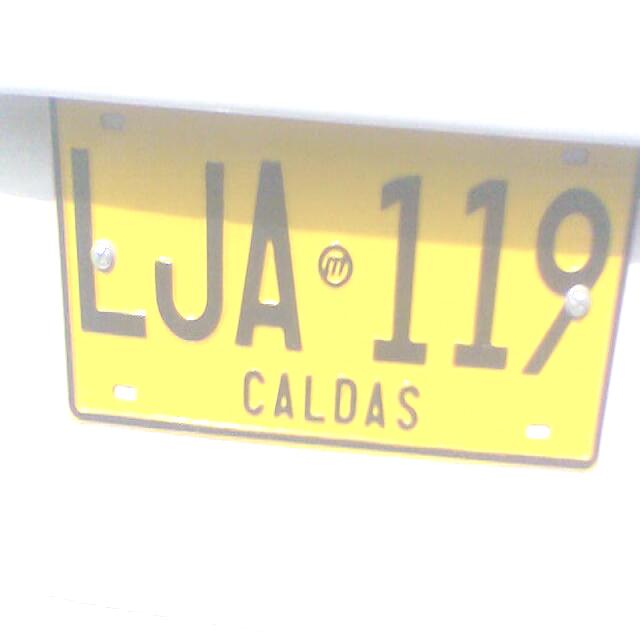placa: (44, 83, 638, 480)
